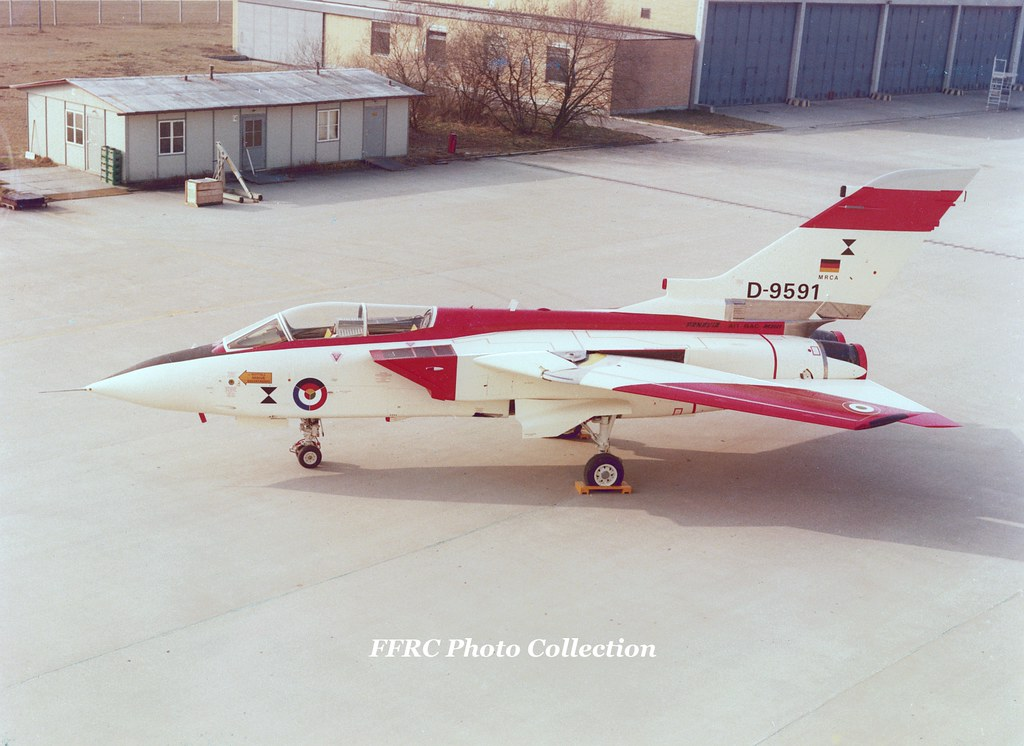Tornado: (37, 168, 981, 493)
